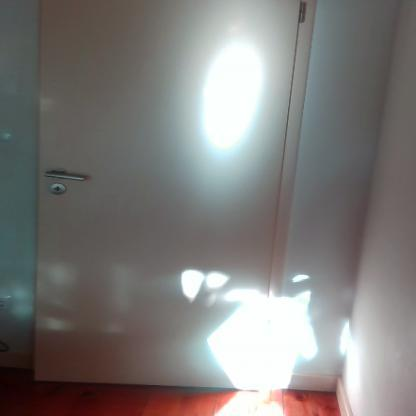door: (42, 0, 280, 389)
hinged: (296, 0, 308, 24)
lever: (43, 169, 90, 185)
